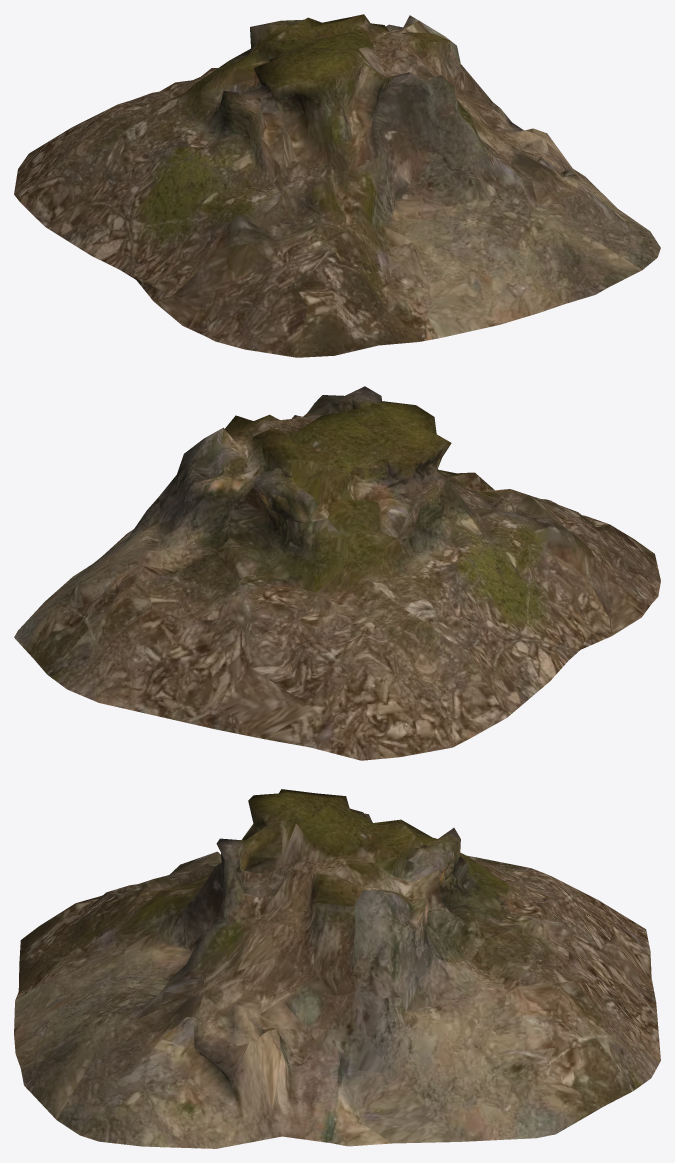
The model's file is tree_stump_01.glb.
3 views of the same model, one above another, from view 1: azimuth 30°, elevation 25°; view 2: azimuth 150°, elevation 25°; view 3: azimuth 270°, elevation 25° (orthographic). The views are drawn at different scales.
Visible parts, largest first — view 1: lod0; view 2: lod0; view 3: lod0.
Part boxes in pixels (left/top/right/bottom): lod0: left=14, top=14, right=660, bottom=357; lod0: left=14, top=386, right=660, bottom=760; lod0: left=14, top=789, right=660, bottom=1148.
Size of what is drawn, in the model's own units: 2.06 by 0.8352 by 2.3.
Materials: 1 (1 with a texture image).
